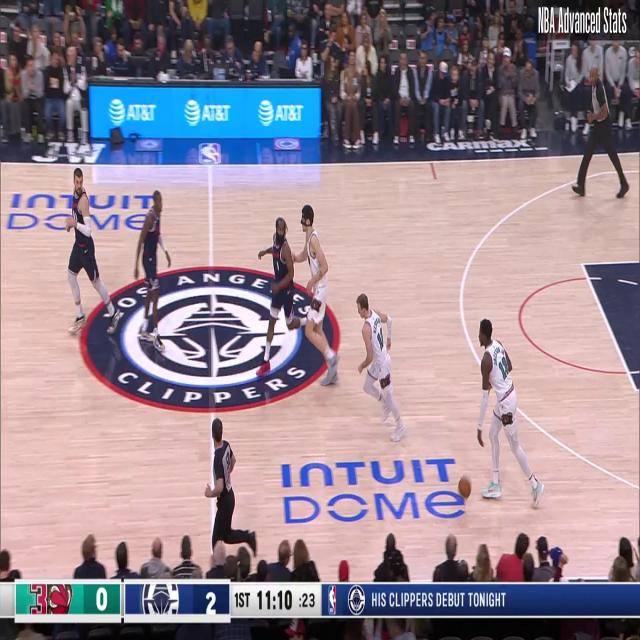judge: (204, 420, 258, 556), (574, 68, 630, 196)
player: (474, 318, 540, 505), (65, 169, 120, 338), (294, 208, 343, 390), (256, 213, 300, 384), (355, 289, 404, 433), (133, 190, 172, 348)
